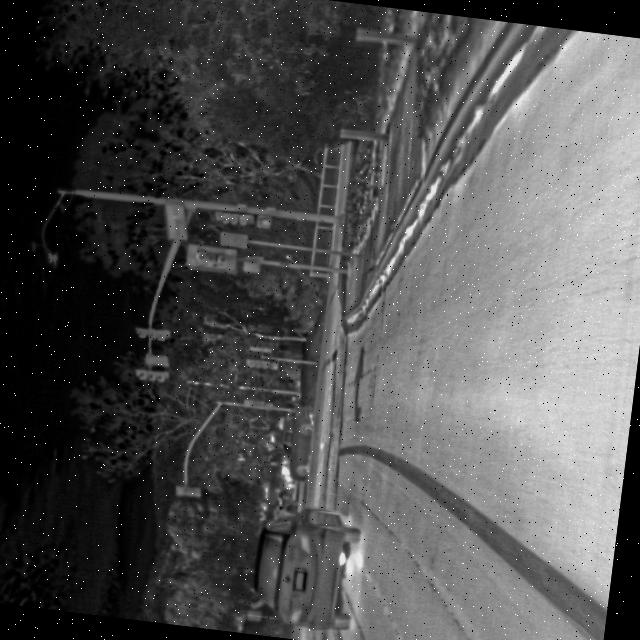Vehicle: (244, 498, 368, 636), (275, 401, 320, 484)
